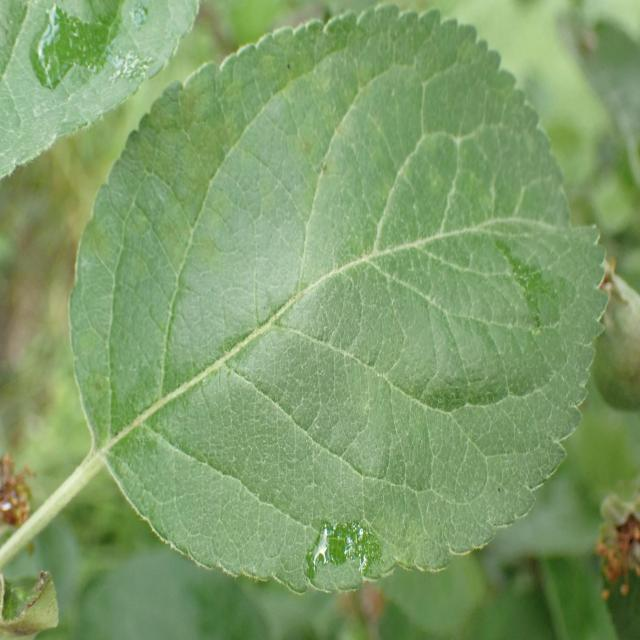scab: (250, 56, 440, 384)
